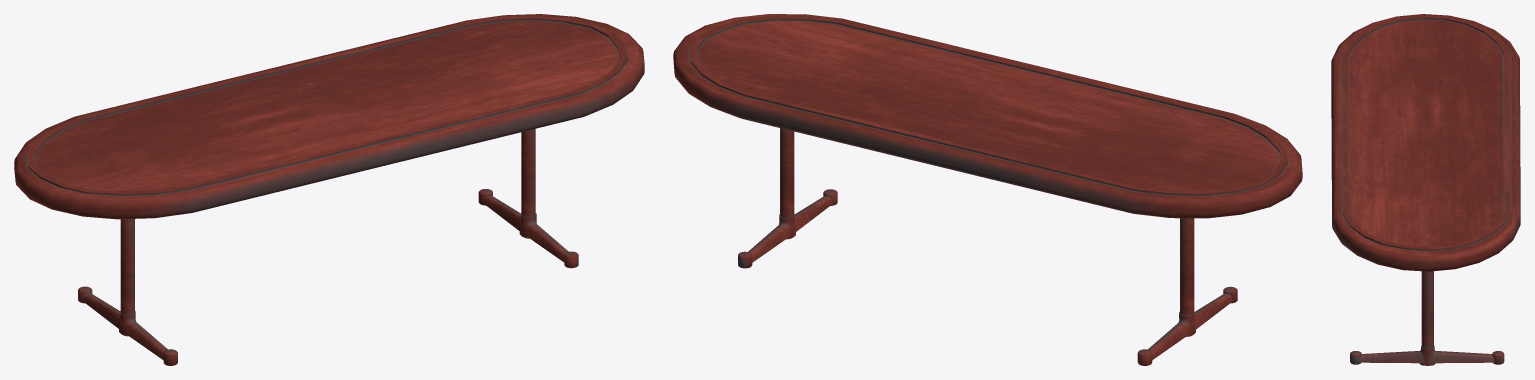
Rendered from SM_Round_Desk.fbx.
3 views of the same model, side by side, from view 1: azimuth 30°, elevation 25°; view 2: azimuth 150°, elevation 25°; view 3: azimuth 270°, elevation 25° (orthographic). The views are drawn at different scales.
Parts seen in each view (by area): view 1: SM_Round_Desk; view 2: SM_Round_Desk; view 3: SM_Round_Desk.
Part boxes in pixels (x1,y1,x2,y2): SM_Round_Desk: (14,14,644,365); SM_Round_Desk: (673,14,1302,365); SM_Round_Desk: (1331,14,1520,365).
Size of the model in its own units: 258 by 83.99 by 72.78.
Materials: 1 (1 with a texture image).
